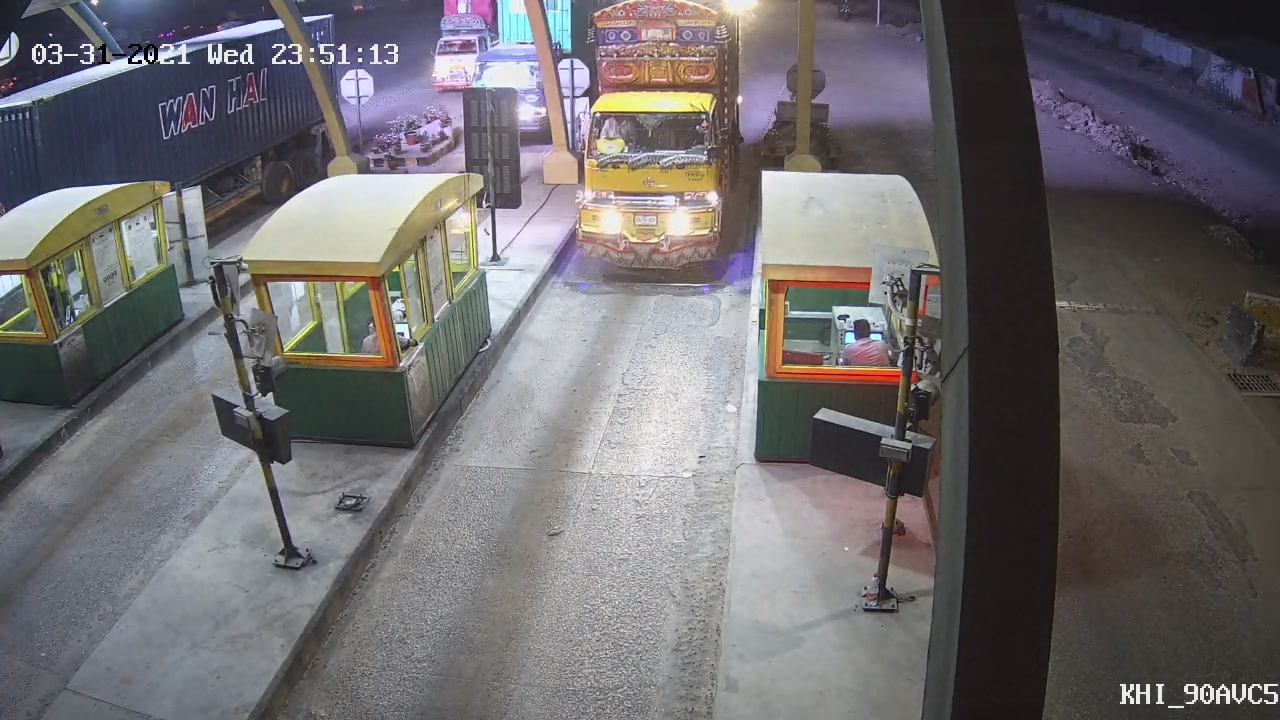F5: (551, 3, 739, 277)
